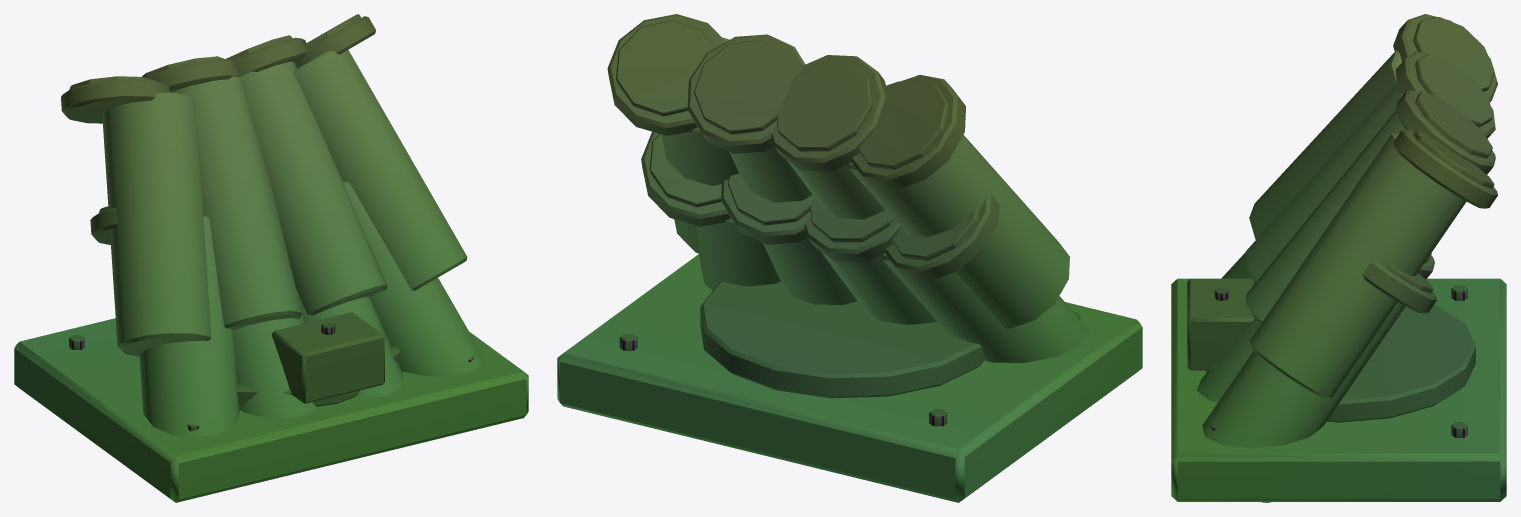
File: RCLModule_skirmish_bike_cyber_nanoweave.fbx
3 renders of one model, left to right at view 1: azimuth 30°, elevation 25°; view 2: azimuth 150°, elevation 25°; view 3: azimuth 270°, elevation 25°, orthographic. The views are drawn at different scales.
Parts seen in each view (by area): view 1: RCLModule_skirmish_bike_cyber_nanoweave_Batch_RCLModuleMater (×2); view 2: RCLModule_skirmish_bike_cyber_nanoweave_Batch_RCLModuleMater (×2); view 3: RCLModule_skirmish_bike_cyber_nanoweave_Batch_RCLModuleMater (×2).
Part boxes in pixels (left/top/right/bottom): RCLModule_skirmish_bike_cyber_nanoweave_Batch_RCLModuleMater (×2): left=14, top=14, right=528, bottom=502; RCLModule_skirmish_bike_cyber_nanoweave_Batch_RCLModuleMater (×2): left=557, top=14, right=1142, bottom=502; RCLModule_skirmish_bike_cyber_nanoweave_Batch_RCLModuleMater (×2): left=1171, top=14, right=1506, bottom=502.
Bounding box in the file's own units: 28 × 25.98 × 22.
